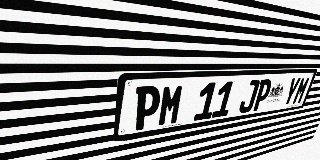1: (193, 82, 219, 121), (211, 81, 236, 118)
J: (238, 80, 261, 114)
M: (157, 84, 185, 127), (292, 77, 311, 105)
P: (132, 85, 162, 131), (251, 79, 274, 111)
Y: (281, 77, 301, 106)
